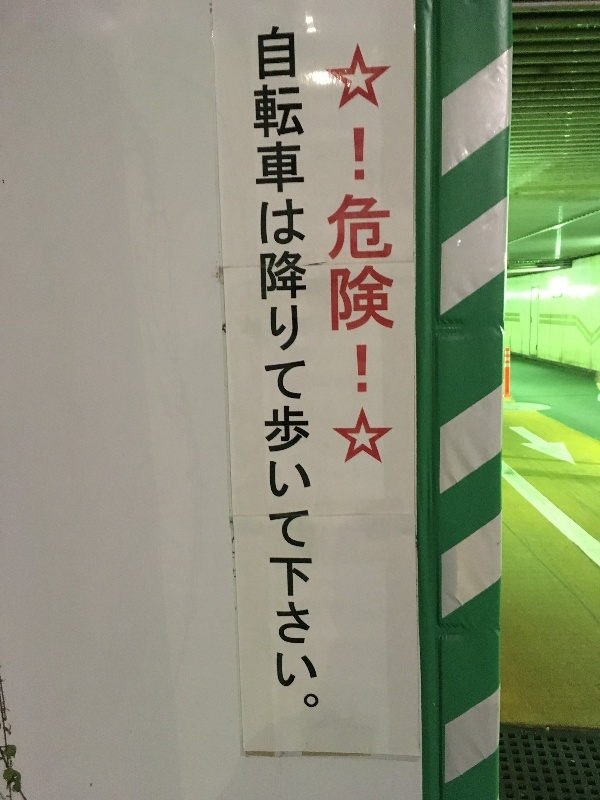text: (257, 24, 272, 709), (273, 24, 288, 709), (289, 24, 304, 709), (305, 24, 320, 709), (248, 24, 256, 709), (337, 127, 352, 394), (353, 127, 368, 394), (369, 127, 384, 394), (326, 127, 336, 394), (385, 127, 395, 394)
